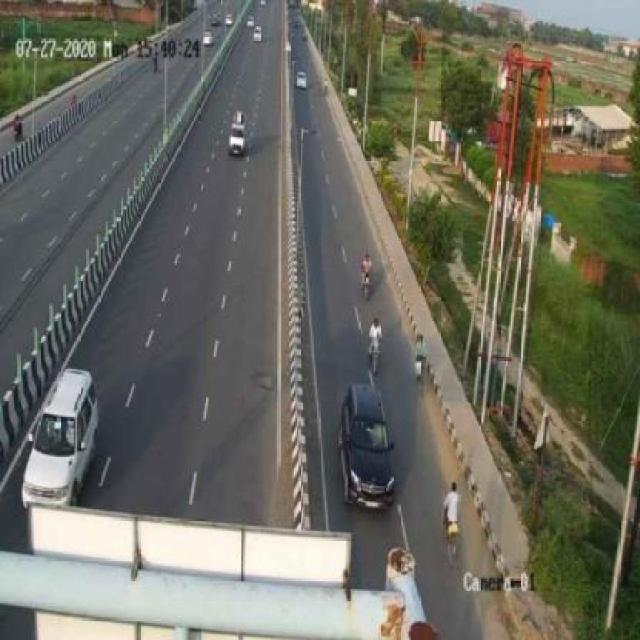car: (15, 362, 103, 509), (328, 377, 404, 515), (225, 103, 252, 159)
